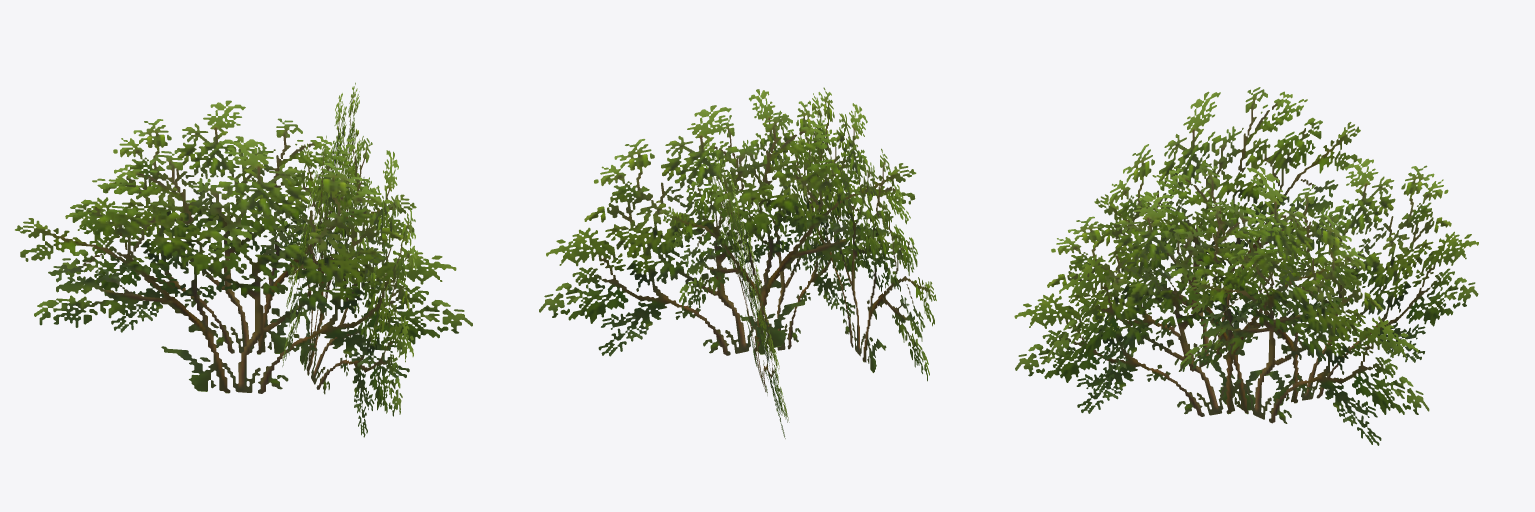
Rendered from weed10_lod1.glb.
3 views of the same model, side by side, from view 1: azimuth 30°, elevation 25°; view 2: azimuth 150°, elevation 25°; view 3: azimuth 270°, elevation 25° (orthographic). The views are drawn at different scales.
Parts seen in each view (by area): view 1: weed10_lod1; view 2: weed10_lod1; view 3: weed10_lod1.
Boxes of the visible parts, x1=… form: weed10_lod1: x1=15, y1=82, x2=472, y2=437; weed10_lod1: x1=539, y1=87, x2=936, y2=438; weed10_lod1: x1=1014, y1=87, x2=1478, y2=445.
Size of the model in its own units: 2.43 by 1.8 by 2.73.
1 material, 1 textured.
